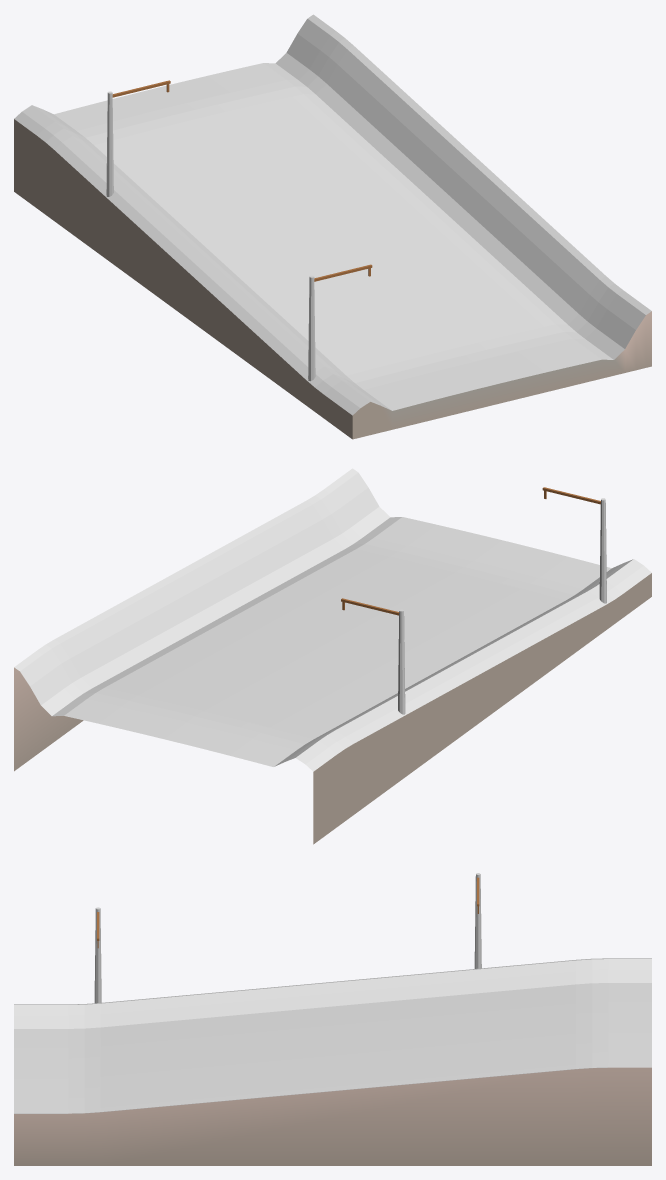
The model's file is pit_haul_ramp.glb.
The picture shows the model from 3 angles, top to bottom: view 1: azimuth 30°, elevation 25°; view 2: azimuth 150°, elevation 25°; view 3: azimuth 270°, elevation 25°; orthographic projection. The views are drawn at different scales.
Parts seen in each view (by area): view 1: pit_haul_ramp-col-col, pit_haul_ramp_ground; view 2: pit_haul_ramp-col-col, pit_haul_ramp_ground; view 3: pit_haul_ramp-col-col, pit_haul_ramp_ground.
Boxes of the visible parts, x1=… form: pit_haul_ramp-col-col: x1=14, y1=14, x2=651, y2=415; pit_haul_ramp_ground: x1=14, y1=119, x2=651, y2=439; pit_haul_ramp-col-col: x1=14, y1=468, x2=651, y2=771; pit_haul_ramp_ground: x1=14, y1=573, x2=651, y2=844; pit_haul_ramp-col-col: x1=14, y1=873, x2=651, y2=1113; pit_haul_ramp_ground: x1=14, y1=1067, x2=651, y2=1165.
Size of the model in its own units: 30 by 15.87 by 58.75.
